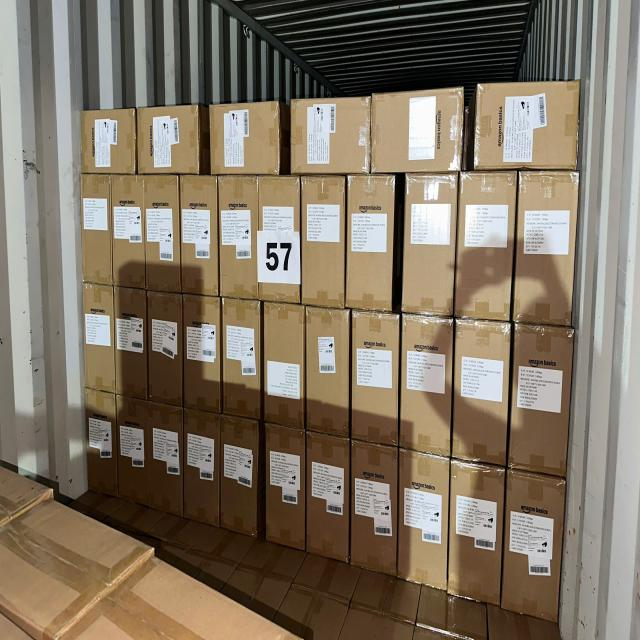Carton: (478, 82, 582, 174), (519, 169, 579, 323), (515, 326, 573, 479), (503, 474, 562, 624), (459, 171, 517, 321), (456, 319, 512, 464), (372, 91, 465, 178), (451, 466, 504, 610), (404, 172, 456, 316), (402, 314, 453, 457), (401, 450, 450, 590), (347, 175, 395, 311), (352, 312, 399, 445), (292, 99, 372, 176), (351, 444, 397, 576), (304, 180, 348, 310), (304, 309, 348, 432), (260, 177, 302, 303), (305, 435, 347, 561), (264, 304, 306, 429), (210, 106, 280, 179), (266, 427, 306, 554), (182, 176, 222, 296), (218, 177, 257, 299), (222, 298, 260, 418), (220, 419, 258, 538), (136, 108, 199, 179), (184, 297, 221, 414), (185, 408, 222, 525), (144, 175, 178, 293), (147, 294, 183, 404), (148, 403, 182, 517), (79, 174, 112, 287), (114, 175, 146, 290), (81, 111, 136, 176), (117, 289, 149, 400), (81, 284, 113, 393), (118, 398, 150, 506), (83, 390, 115, 494)
